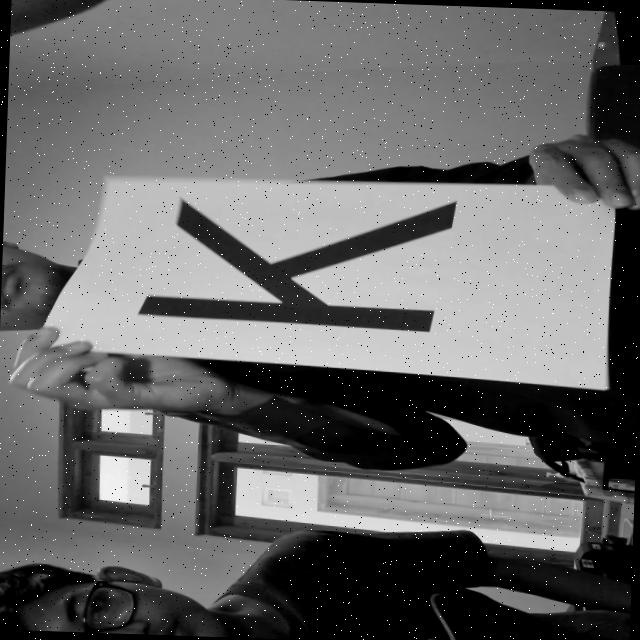k: (124, 184, 473, 338)
